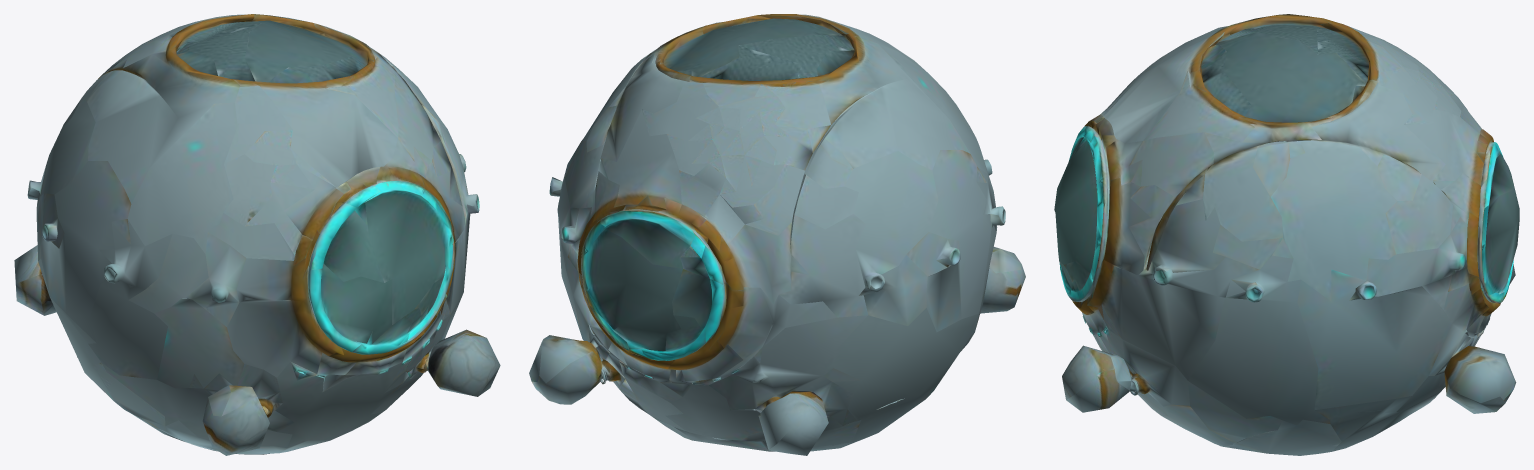
File: alp_hero_seeker_alt.glb
The picture shows the model from 3 angles, left to right: view 1: azimuth 30°, elevation 25°; view 2: azimuth 150°, elevation 25°; view 3: azimuth 270°, elevation 25°; orthographic projection.
Size of the model in its own units: 1.81 by 1.77 by 1.89.
1 material, 1 textured.
